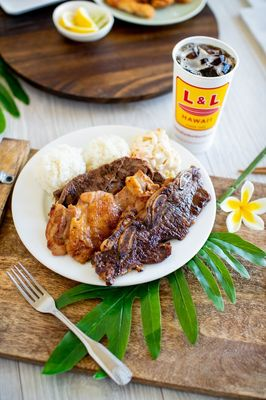burger: (4, 262, 132, 385)
pizza: (172, 35, 240, 152)
sushi: (52, 0, 115, 43)
